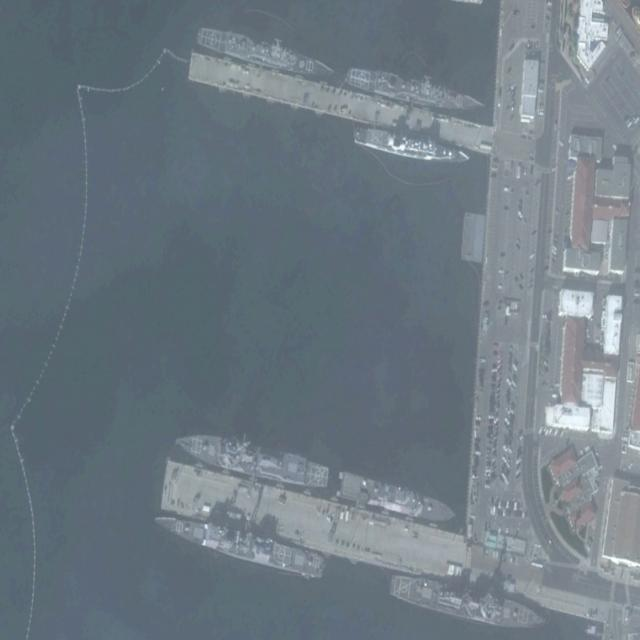Cruiser: (151, 503, 327, 584)
Destroyer: (171, 422, 331, 495), (387, 568, 548, 636)
Frigate: (194, 18, 337, 83), (344, 56, 488, 118)
Other Ship: (352, 122, 472, 169)
Other Warship: (334, 467, 459, 529)
